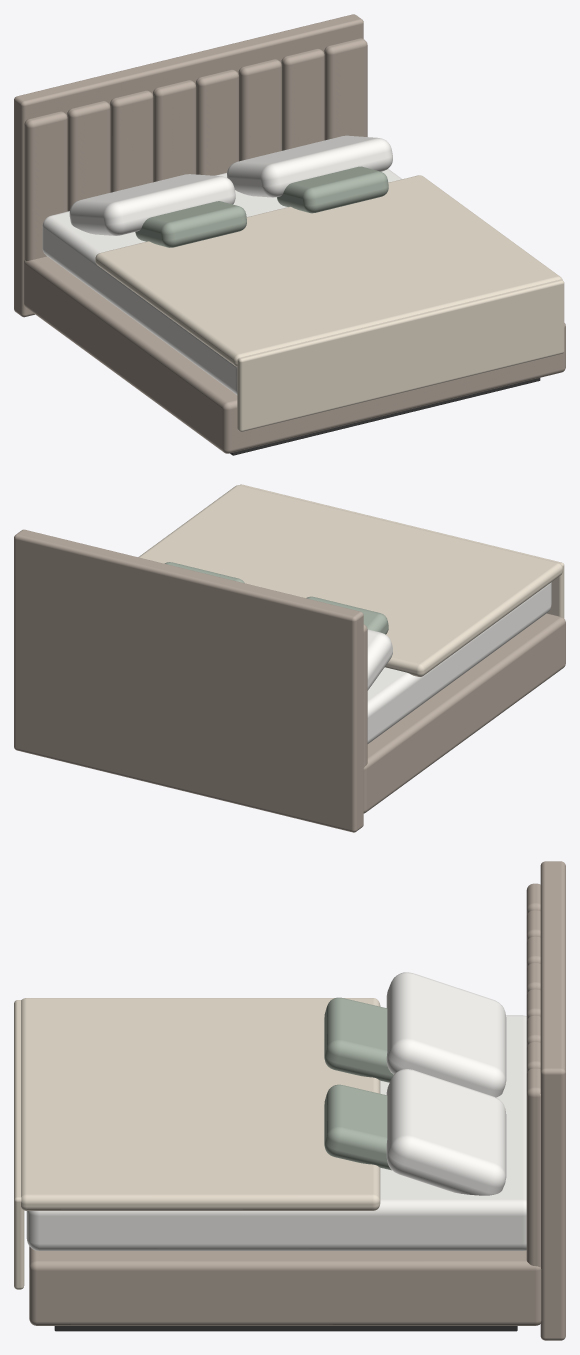
The model's file is bed_upholstered.gltf.
The picture shows the model from 3 angles, top to bottom: view 1: azimuth 30°, elevation 25°; view 2: azimuth 150°, elevation 25°; view 3: azimuth 270°, elevation 25°; orthographic projection. The views are drawn at different scales.
Parts seen in each view (by area): view 1: linen_sand, velvet_taupe, linen_white, velvet_sage, black_metal; view 2: velvet_taupe, linen_sand, linen_white, velvet_sage; view 3: linen_sand, velvet_taupe, linen_white, velvet_sage, black_metal.
Part boxes in pixels (x1,y1,x2,y2): linen_sand: [95, 175, 564, 431]; velvet_taupe: [14, 14, 565, 453]; linen_white: [42, 135, 401, 394]; velvet_sage: [135, 166, 388, 247]; black_metal: [230, 378, 540, 455]; velvet_taupe: [14, 529, 565, 832]; linen_sand: [138, 484, 564, 676]; linen_white: [367, 582, 551, 743]; velvet_sage: [165, 562, 388, 634]; linen_sand: [14, 998, 380, 1289]; velvet_taupe: [29, 861, 565, 1340]; linen_white: [26, 972, 526, 1250]; velvet_sage: [324, 997, 393, 1170]; black_metal: [54, 1326, 517, 1331].
Size of the model in its own units: 1.96 by 1.18 by 2.17.
